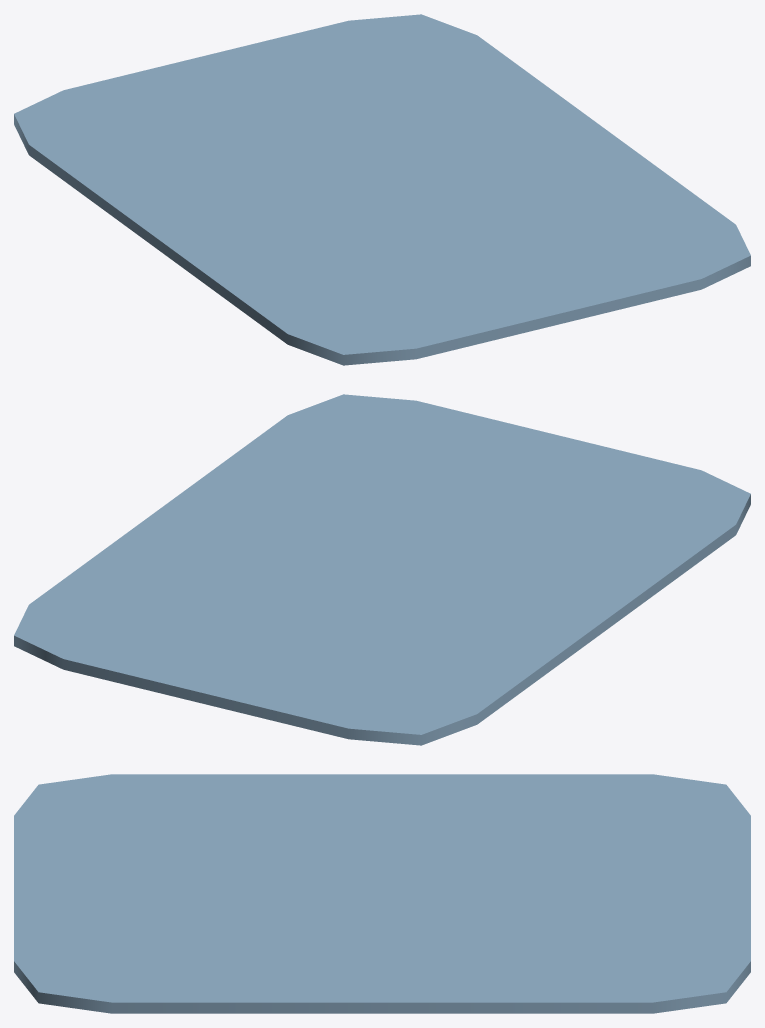
The model's file is carpet-rectangle-solid-small.glb.
3 renders of one model, top to bottom at view 1: azimuth 30°, elevation 25°; view 2: azimuth 150°, elevation 25°; view 3: azimuth 270°, elevation 25°, orthographic. The views are drawn at different scales.
Visible parts, largest first — view 1: carpet-rectangle-solid-small; view 2: carpet-rectangle-solid-small; view 3: carpet-rectangle-solid-small.
Boxes of the visible parts, bbox=[...] form: carpet-rectangle-solid-small: bbox=[14, 14, 750, 365]; carpet-rectangle-solid-small: bbox=[14, 394, 750, 745]; carpet-rectangle-solid-small: bbox=[14, 774, 750, 1013].
Size of the model in its own units: 1.1 by 0.025 by 1.5.
